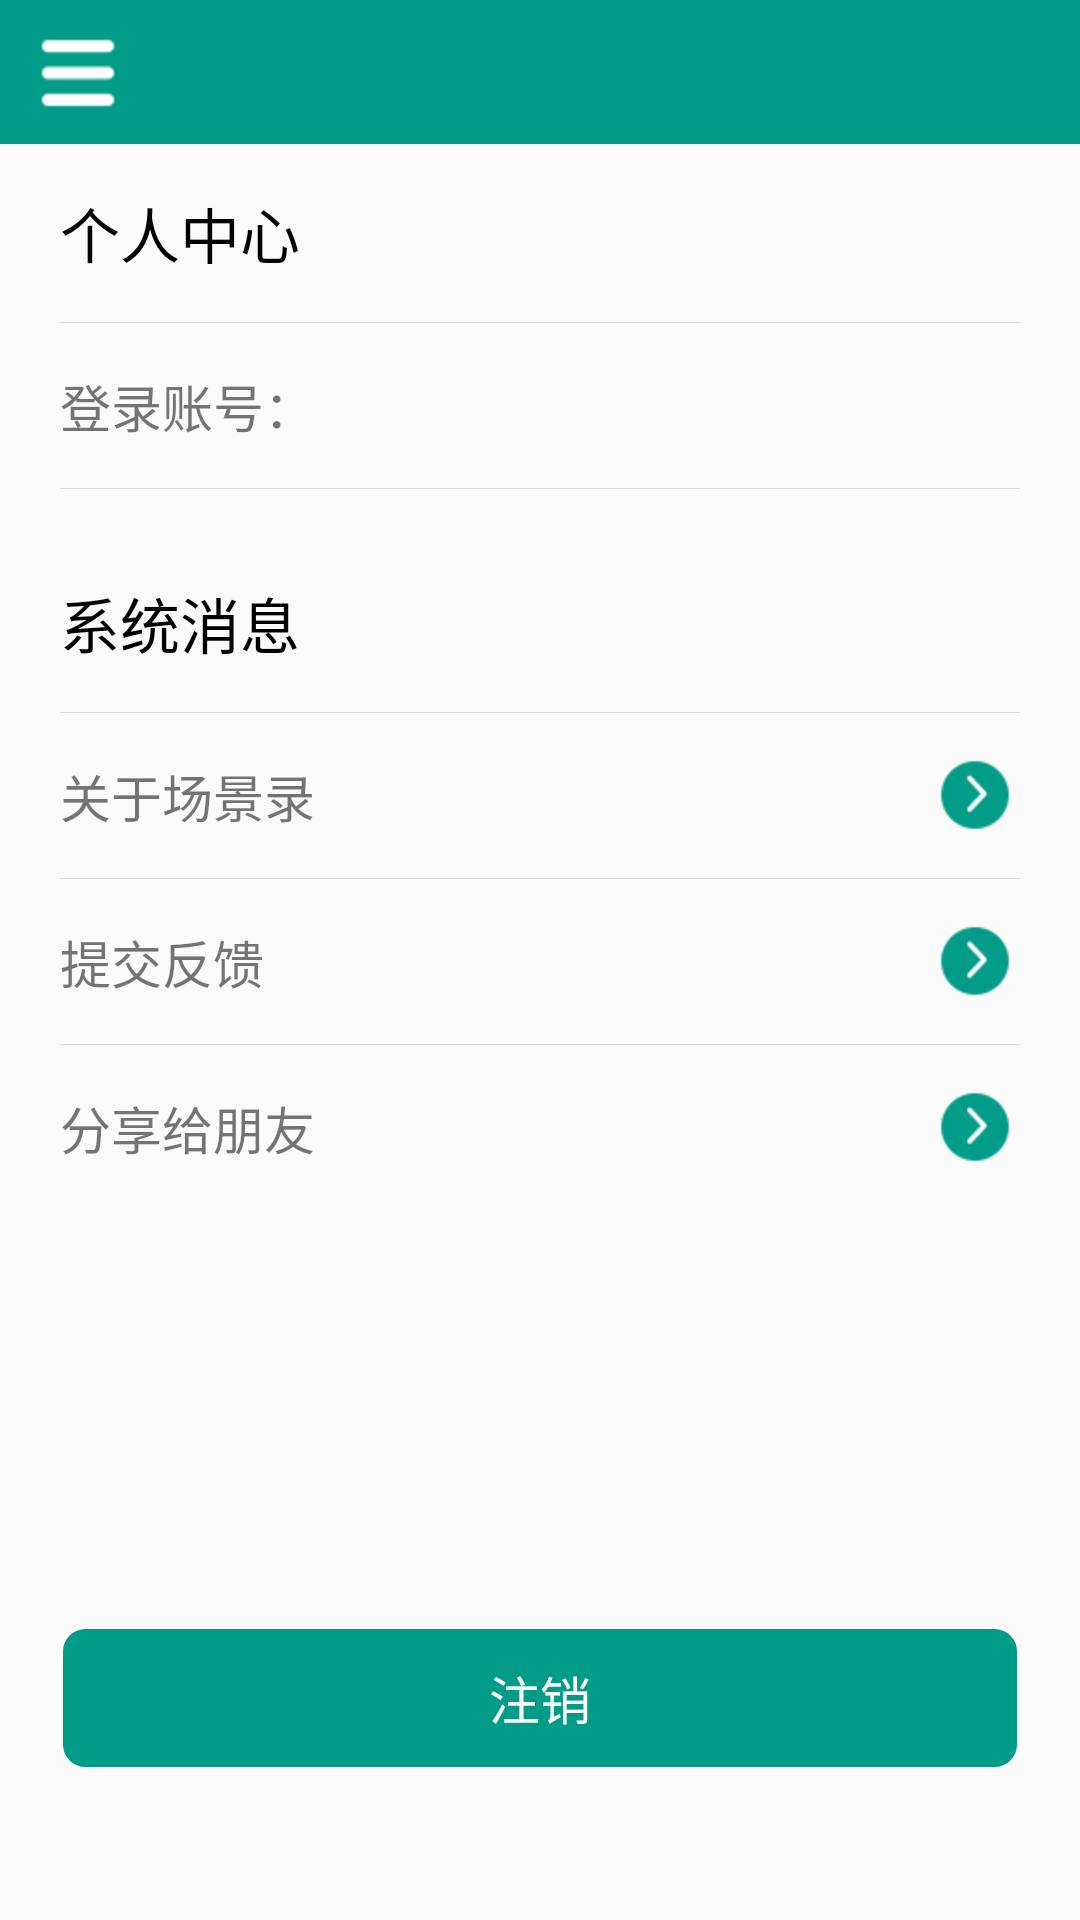

Named icons in this screenshot (1080*1920) and their centers, (x,y):
menu: (78,73)
more: (975,795), (975,961), (975,1127)
